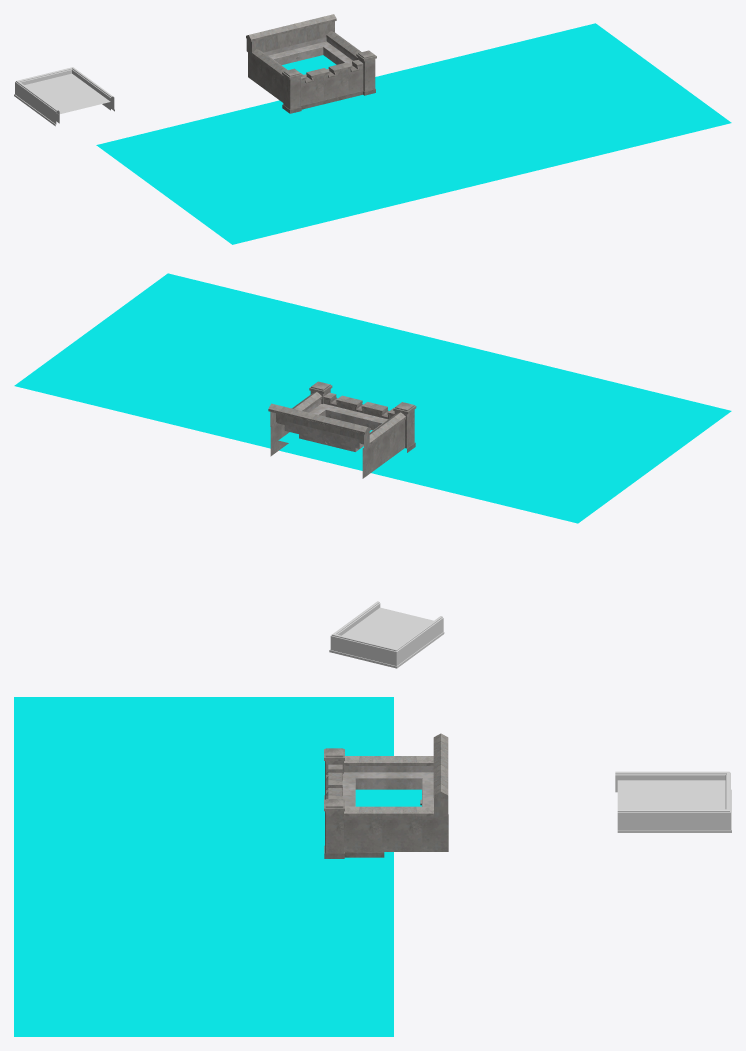
The model's file is SidePool.fbx.
3 renders of one model, top to bottom at view 1: azimuth 30°, elevation 25°; view 2: azimuth 150°, elevation 25°; view 3: azimuth 270°, elevation 25°, orthographic. The views are drawn at different scales.
Visible parts, largest first — view 1: Hotel_Water, Hotel_STR_Fountain_02, Hotel_STR_PoolWall_02; view 2: Hotel_Water, Hotel_STR_Fountain_02, Hotel_STR_PoolWall_02; view 3: Hotel_Water, Hotel_STR_Fountain_02, Hotel_STR_PoolWall_02.
Part boxes in pixels (<box>): Hotel_Water: <box>96,23,731,244</box>; Hotel_STR_Fountain_02: <box>246,14,376,113</box>; Hotel_STR_PoolWall_02: <box>14,67,114,126</box>; Hotel_Water: <box>14,273,731,523</box>; Hotel_STR_Fountain_02: <box>268,381,416,478</box>; Hotel_STR_PoolWall_02: <box>329,601,444,668</box>; Hotel_Water: <box>14,697,421,1036</box>; Hotel_STR_Fountain_02: <box>324,733,448,858</box>; Hotel_STR_PoolWall_02: <box>615,771,731,832</box>.
Size of the model in its own units: 2507 by 507 by 2239.
Materials: 4 (2 with a texture image).
